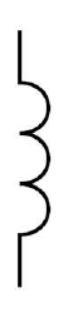inductor: (0, 64, 51, 245)
